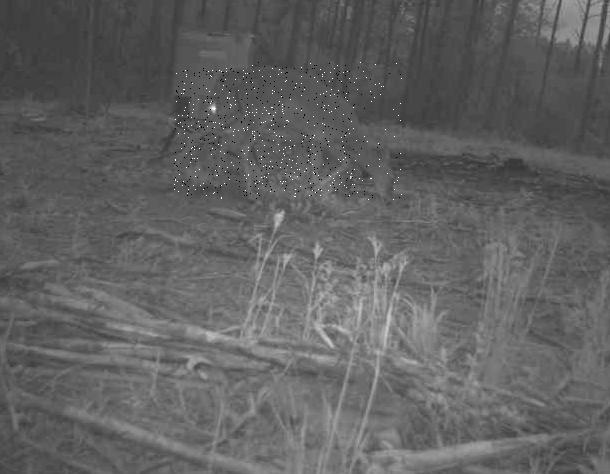Deer: (216, 62, 402, 201), (174, 68, 355, 196)
